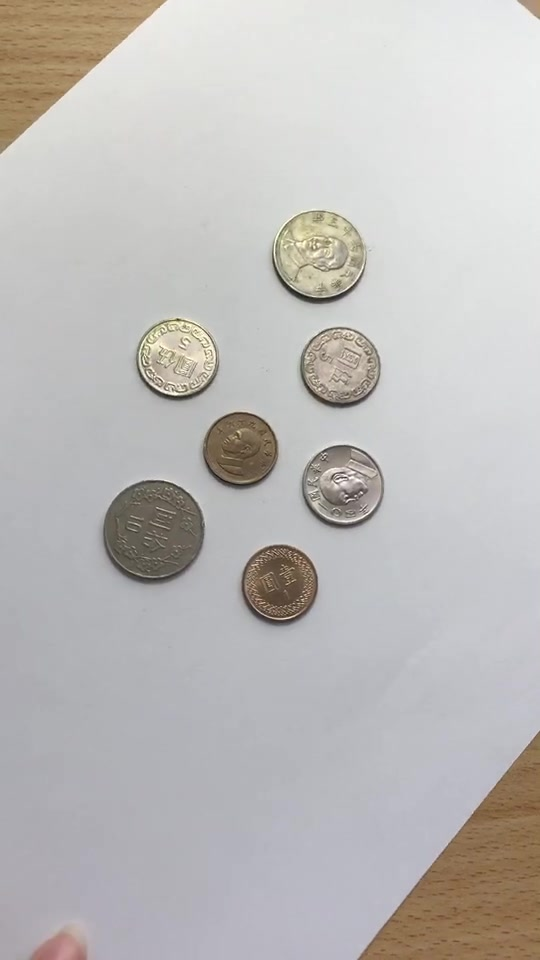1 dallar: (238, 540, 326, 629), (200, 404, 288, 493)
10 dallar: (262, 199, 379, 308), (92, 474, 209, 583)
5 dallar: (135, 306, 220, 404), (299, 317, 384, 415), (301, 436, 386, 534)
